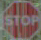Stop: (1, 9, 40, 33)
